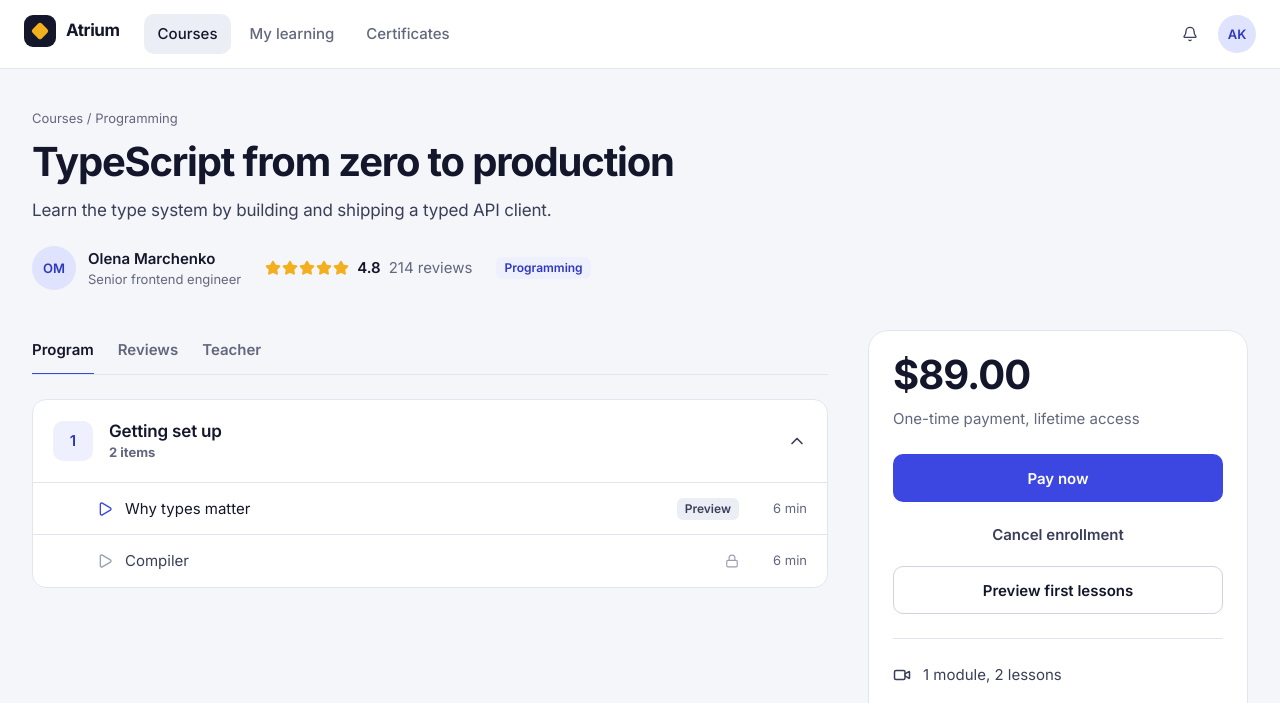
Test case: enrolling › validates card fields before paying
The image size is (1280, 703).
Click the button "Pay now".
click(1058, 478)  # box [893, 454, 1223, 502]
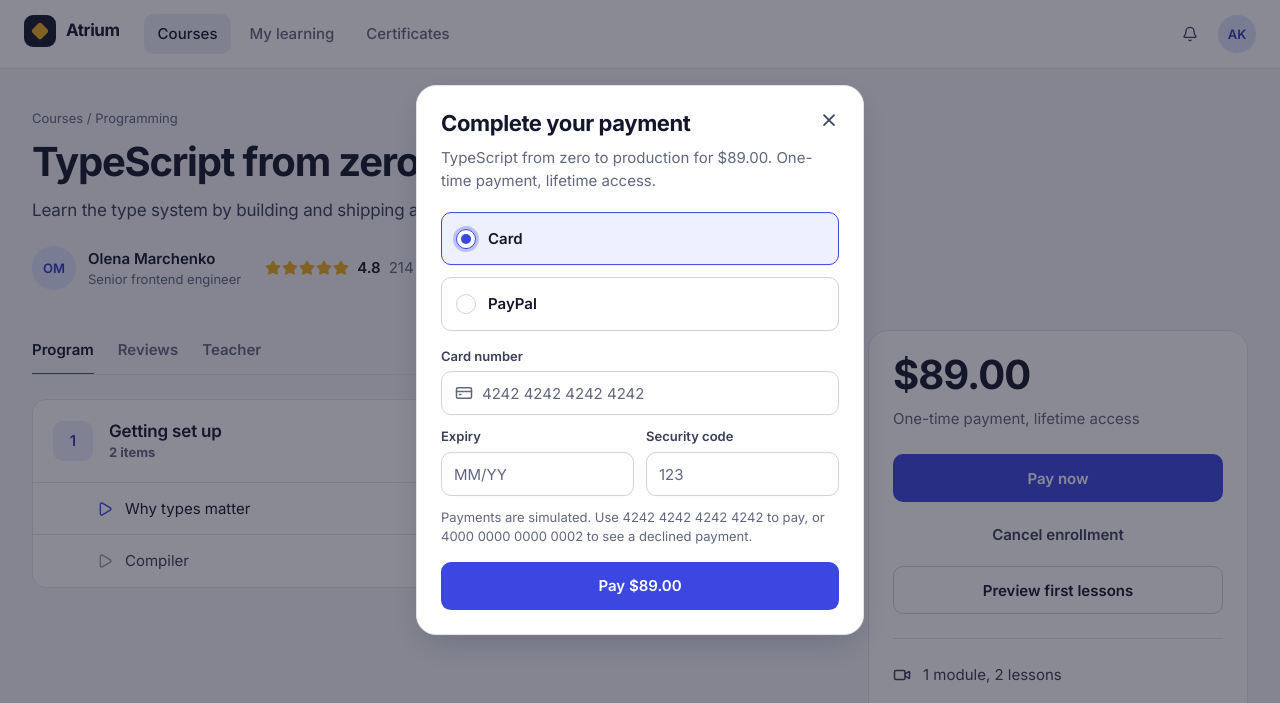
Click the button "Pay $89.00".
click(640, 586)  # box [441, 562, 839, 610]
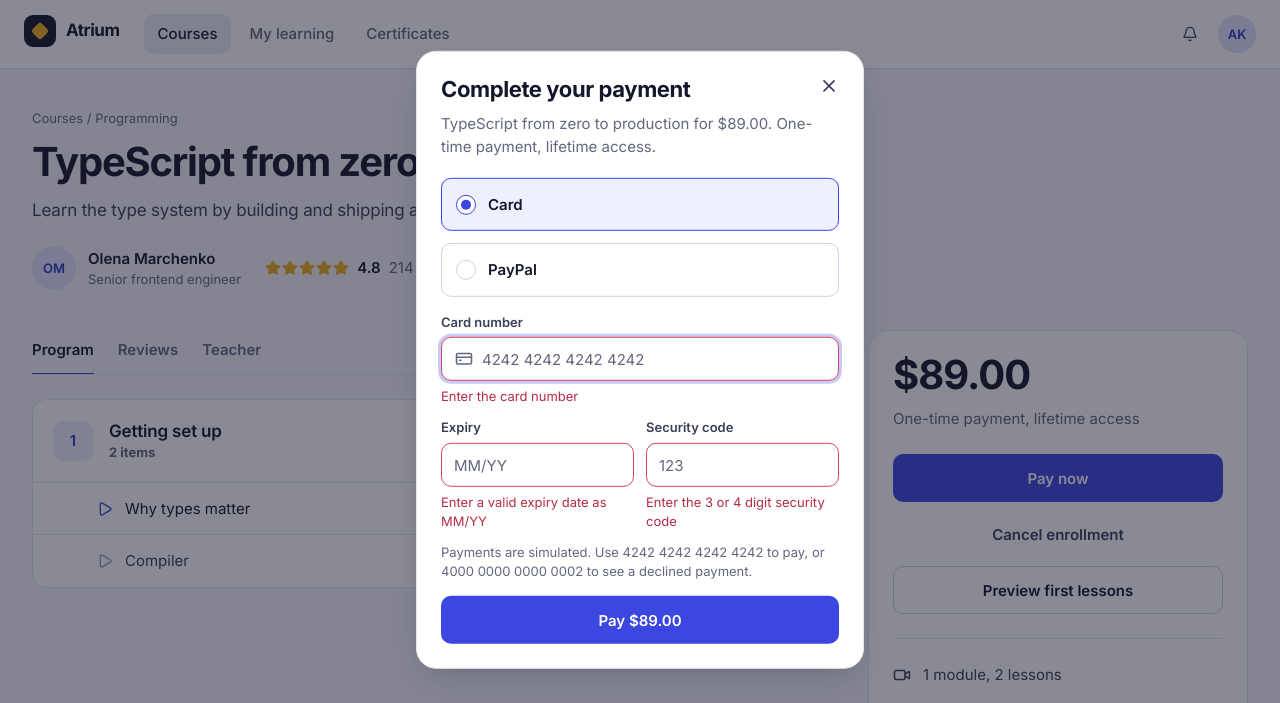
Expected: the text "Enter the card number" is shown, [441, 388, 578, 404]
Expected: the text "Enter a valid expiry date as MM/YY" is shown, [441, 493, 634, 530]
Expected: the text "Enter the 3 or 4 digit security code" is shown, [646, 493, 839, 530]
